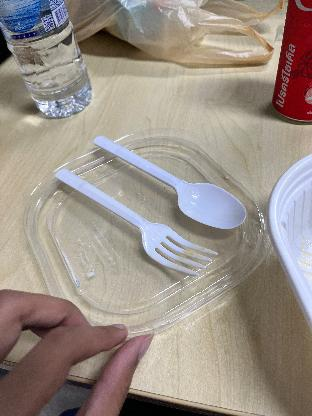Others: (44, 164, 218, 284), (83, 123, 247, 233)
Plastic Bottle: (1, 1, 96, 113)
